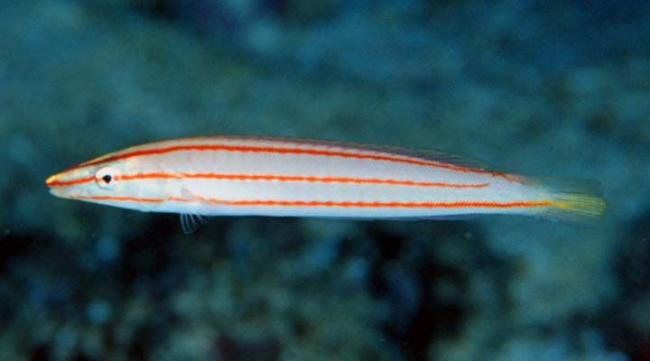fish: (44, 134, 607, 235)
